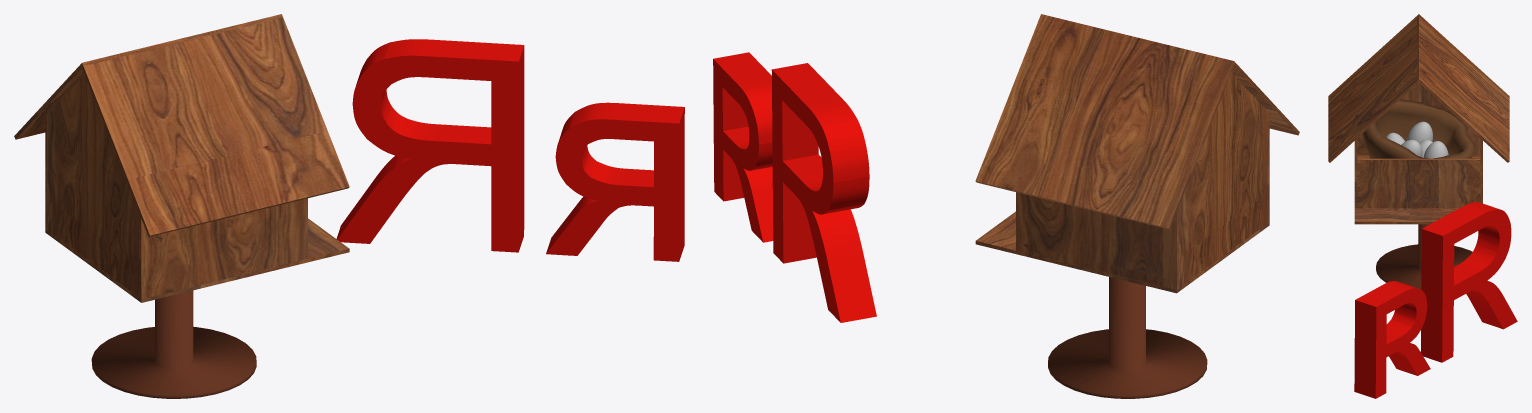
The picture shows the model from 3 angles, left to right: view 1: azimuth 30°, elevation 25°; view 2: azimuth 150°, elevation 25°; view 3: azimuth 270°, elevation 25°; orthographic projection. The views are drawn at different scales.
Parts seen in each view (by area): view 1: Cube.003, Mesh_0.036, Cube.005, Cylinder, Cube.001, Cube, Cube.004; view 2: Cube.004, Mesh_0.036, Cube.005, Cylinder, Cube.002, Cube, Cube.003; view 3: Mesh_0.036, Cube.004, Cube.006, Cube.003, Sphere.001, Cylinder, Cube, Cube.005, Sphere.005, Sphere.004, Cube.001, Sphere.003 (+1 smaller).
Part boxes in pixels (bbox=[...]): Cube.003: bbox=[82, 17, 349, 236]; Mesh_0.036: bbox=[336, 39, 684, 261]; Cube.005: bbox=[47, 75, 139, 297]; Cylinder: bbox=[91, 290, 256, 398]; Cube.001: bbox=[139, 198, 307, 299]; Cube: bbox=[45, 218, 349, 302]; Cube.004: bbox=[14, 14, 282, 139]; Cube.004: bbox=[975, 14, 1235, 229]; Mesh_0.036: bbox=[713, 52, 876, 322]; Cube.005: bbox=[1178, 73, 1267, 287]; Cylinder: bbox=[1048, 277, 1207, 398]; Cube.002: bbox=[1016, 192, 1178, 289]; Cube: bbox=[975, 211, 1269, 293]; Cube.003: bbox=[1231, 63, 1299, 135]; Mesh_0.036: bbox=[1354, 202, 1517, 398]; Cube.004: bbox=[1417, 14, 1509, 162]; Cube.006: bbox=[1357, 158, 1480, 208]; Cube.003: bbox=[1328, 16, 1418, 162]; Sphere.001: bbox=[1362, 99, 1475, 158]; Cylinder: bbox=[1376, 224, 1472, 289]; Cube: bbox=[1354, 155, 1480, 224]; Cube.005: bbox=[1357, 83, 1480, 155]; Sphere.005: bbox=[1406, 121, 1432, 142]; Sphere.004: bbox=[1423, 141, 1448, 158]; Cube.001: bbox=[1354, 139, 1357, 208]; Sphere.003: bbox=[1401, 139, 1422, 157].
Size of the model in its own units: 41.83 by 23.3 by 18.02.
5 materials, 1 textured.
